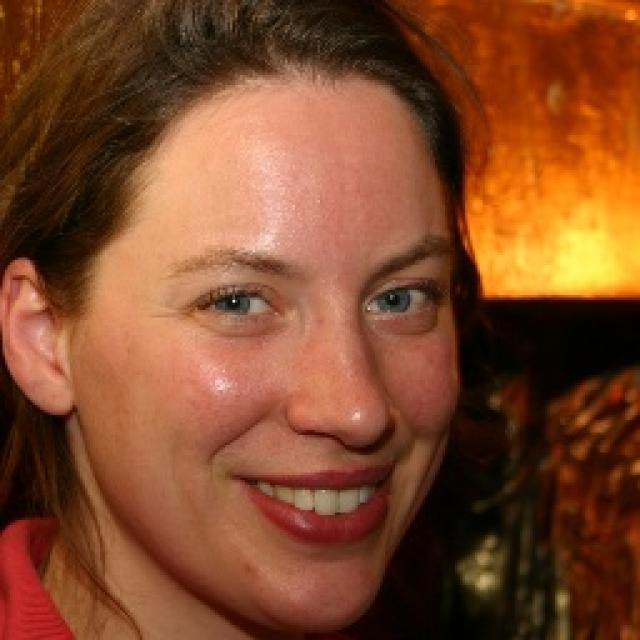earlobe: (27, 369, 77, 419)
eye: (197, 286, 285, 326), (360, 282, 443, 319)
nose: (272, 419, 394, 463)
wholeear: (0, 258, 76, 418)
